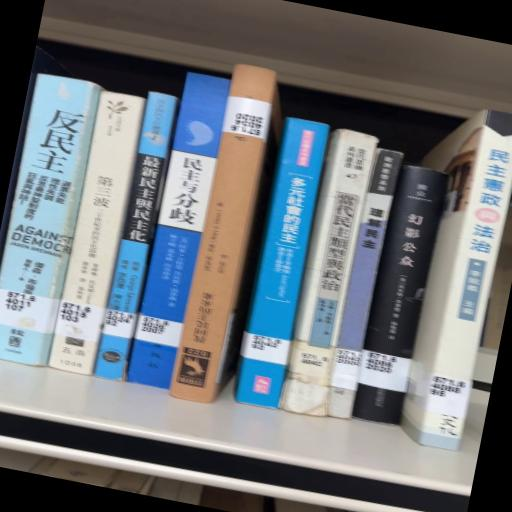reverse: (170, 65, 282, 404)
